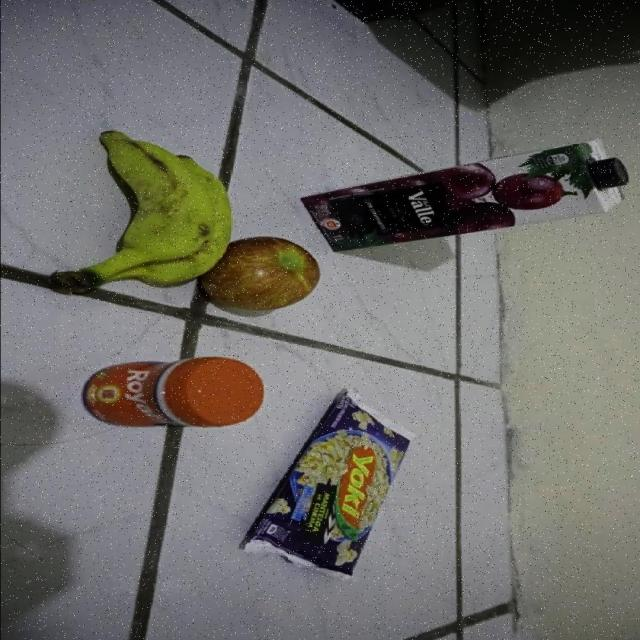Apple: (201, 236, 321, 312)
Banana: (50, 132, 233, 292)
Popcorn: (241, 390, 418, 582)
Yeast: (82, 357, 265, 428)
